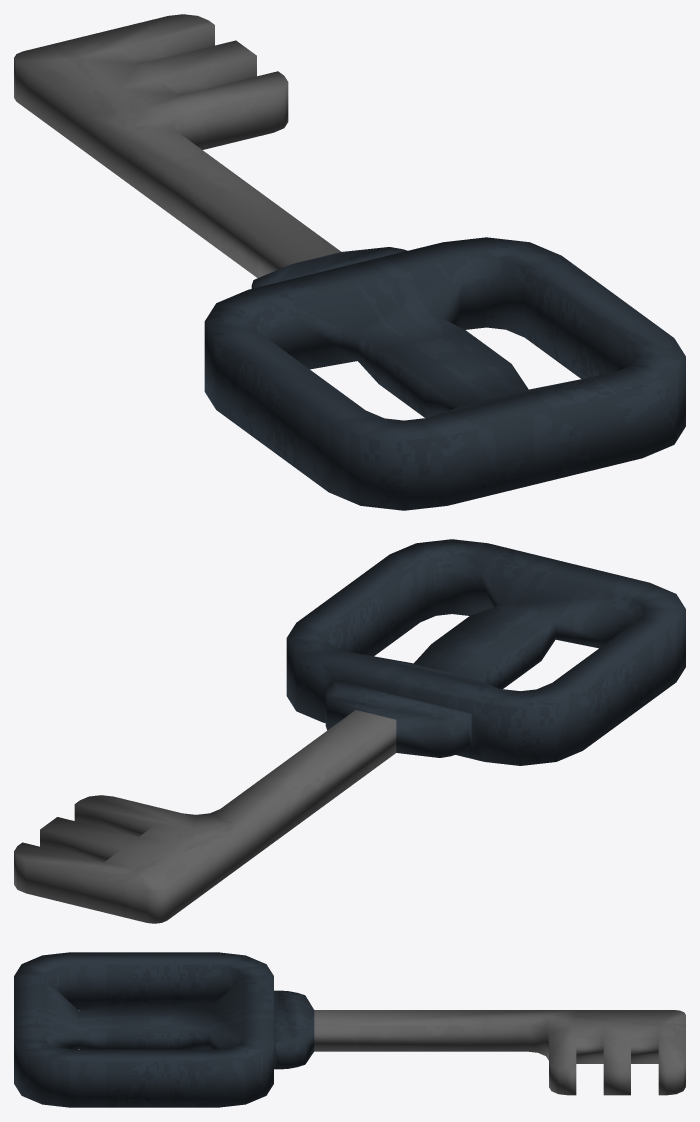
The model's file is Key.glb.
3 renders of one model, top to bottom at view 1: azimuth 30°, elevation 25°; view 2: azimuth 150°, elevation 25°; view 3: azimuth 270°, elevation 25°, orthographic. The views are drawn at different scales.
Parts seen in each view (by area): view 1: Cube; view 2: Cube; view 3: Cube.
Boxes of the visible parts, x1,y1,x2,y2 form: Cube: (14,14,685,510); Cube: (14,539,685,923); Cube: (14,952,685,1107).
Bounding box in the file's own units: 0.54 × 0.1046 × 1.4.
Materials: 2 (2 with a texture image).
